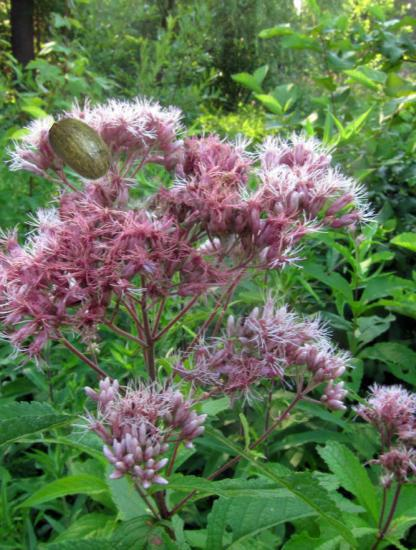Melon: (45, 112, 118, 185)
